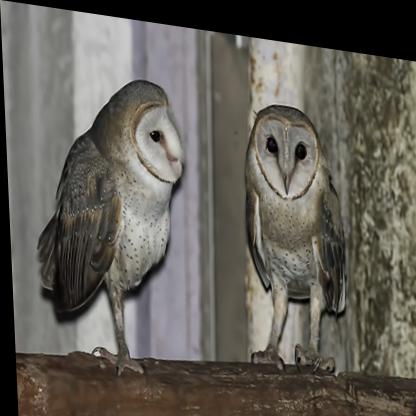Burung: (30, 63, 189, 387), (236, 92, 347, 364)
